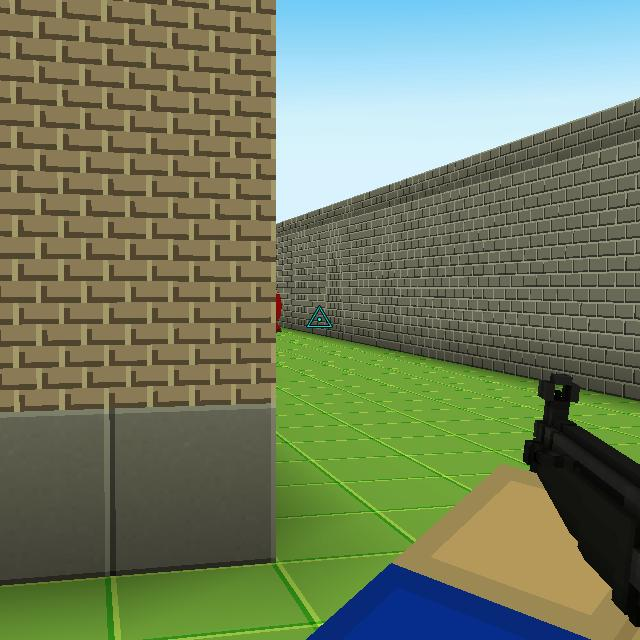enemy: (276, 285, 283, 332)
